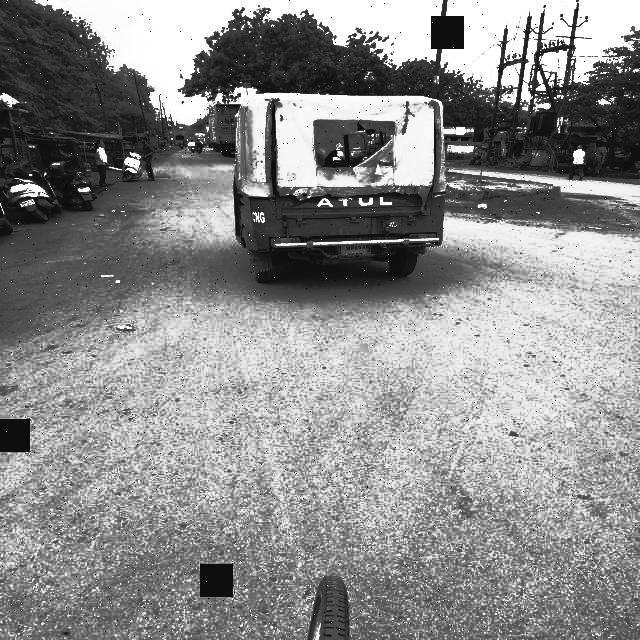Auto-Rickshaw: (209, 88, 465, 293)
